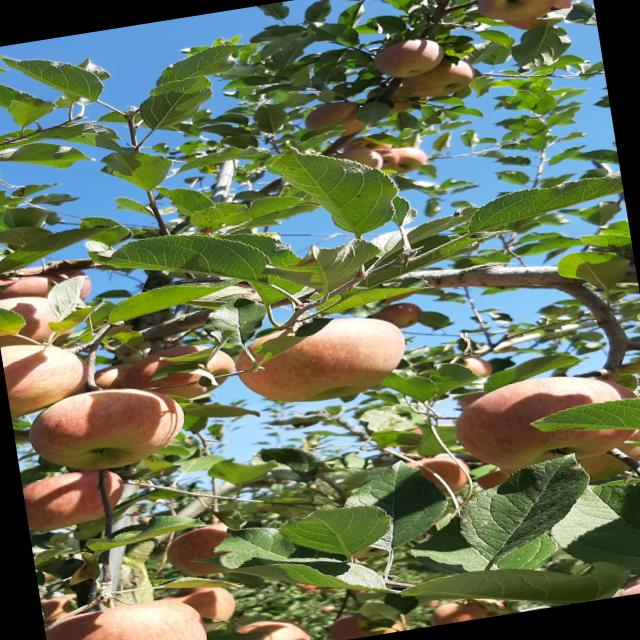fresh: (227, 306, 429, 421), (22, 370, 210, 487)
